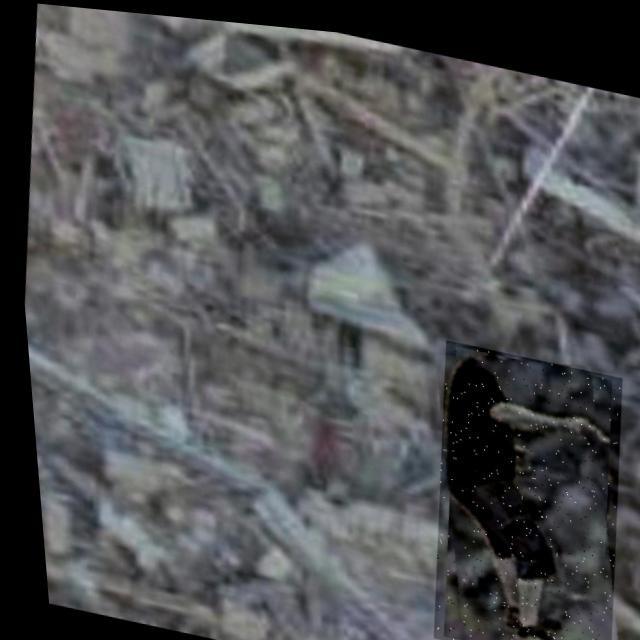Person in Rubble: (403, 329, 636, 640)
